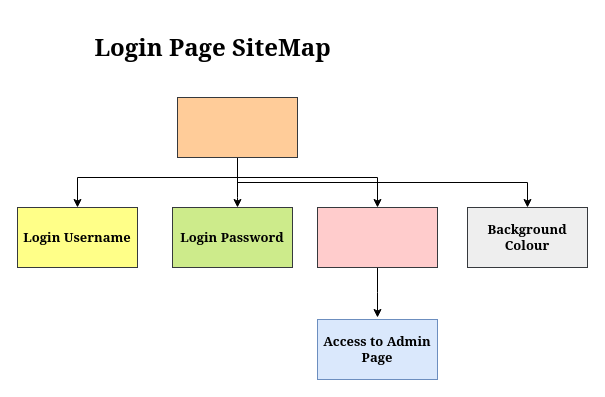
Image size: 605x397. Some labels were removed from this diagram. Here are the shapes that lost their labels. From the top down, the centre of each, then its label:
At pixel 237 127: "Login Page".
At pixel 377 237: "Submit Button".
